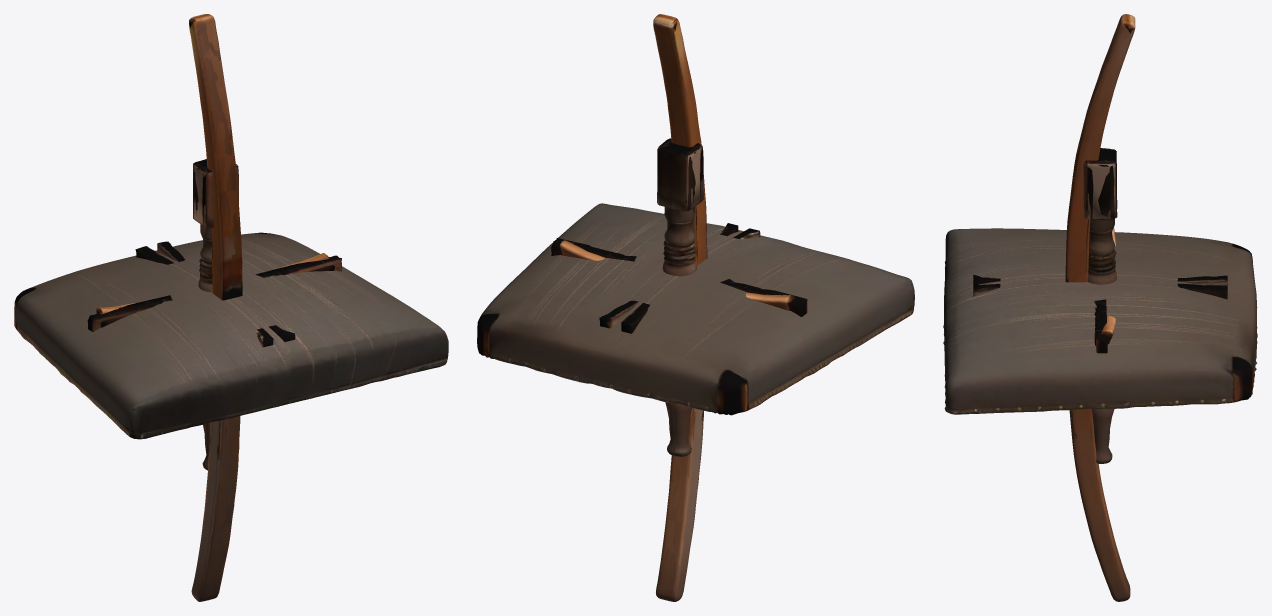
3 renders of one model, left to right at view 1: azimuth 30°, elevation 25°; view 2: azimuth 150°, elevation 25°; view 3: azimuth 270°, elevation 25°, orthographic.
Visible parts, largest first — view 1: root.0, root.2, root.1, root.7, root.4, root.6, root.9; view 2: root.0, root.2, root.7, root.1, root.6, root.4, root.3, root.8, root.9; view 3: root.0, root.1, root.6, root.2, root.7, root.8, root.9, root.4.
Boxes of the visible parts, <box> form: root.0: <box>14,232,448,439</box>; root.2: <box>189,14,242,601</box>; root.1: <box>189,14,242,600</box>; root.7: <box>193,161,237,470</box>; root.4: <box>87,255,341,331</box>; root.6: <box>193,159,238,287</box>; root.9: <box>135,246,295,341</box>; root.0: <box>477,203,914,415</box>; root.2: <box>653,14,707,601</box>; root.7: <box>657,138,703,456</box>; root.1: <box>653,14,703,601</box>; root.6: <box>657,144,702,455</box>; root.4: <box>551,238,807,316</box>; root.3: <box>559,240,794,310</box>; root.8: <box>599,228,760,328</box>; root.9: <box>621,223,738,333</box>; root.0: <box>943,228,1257,414</box>; root.1: <box>1065,14,1135,601</box>; root.6: <box>1083,148,1117,463</box>; root.2: <box>1065,14,1135,600</box>; root.7: <box>1087,150,1117,455</box>; root.8: <box>973,275,1227,299</box>; root.9: <box>973,275,1227,296</box>; root.4: <box>1094,299,1107,353</box>.
Size of the model in its own units: 21907 by 38321 by 18821.
Materials: 1 (1 with a texture image).
